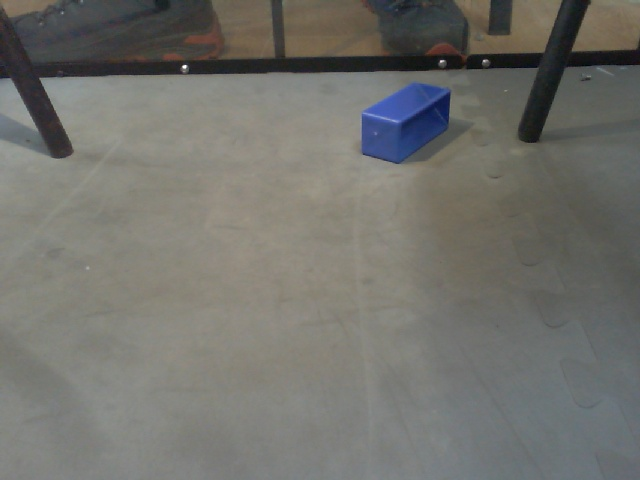BlueSample: (359, 79, 453, 168)
